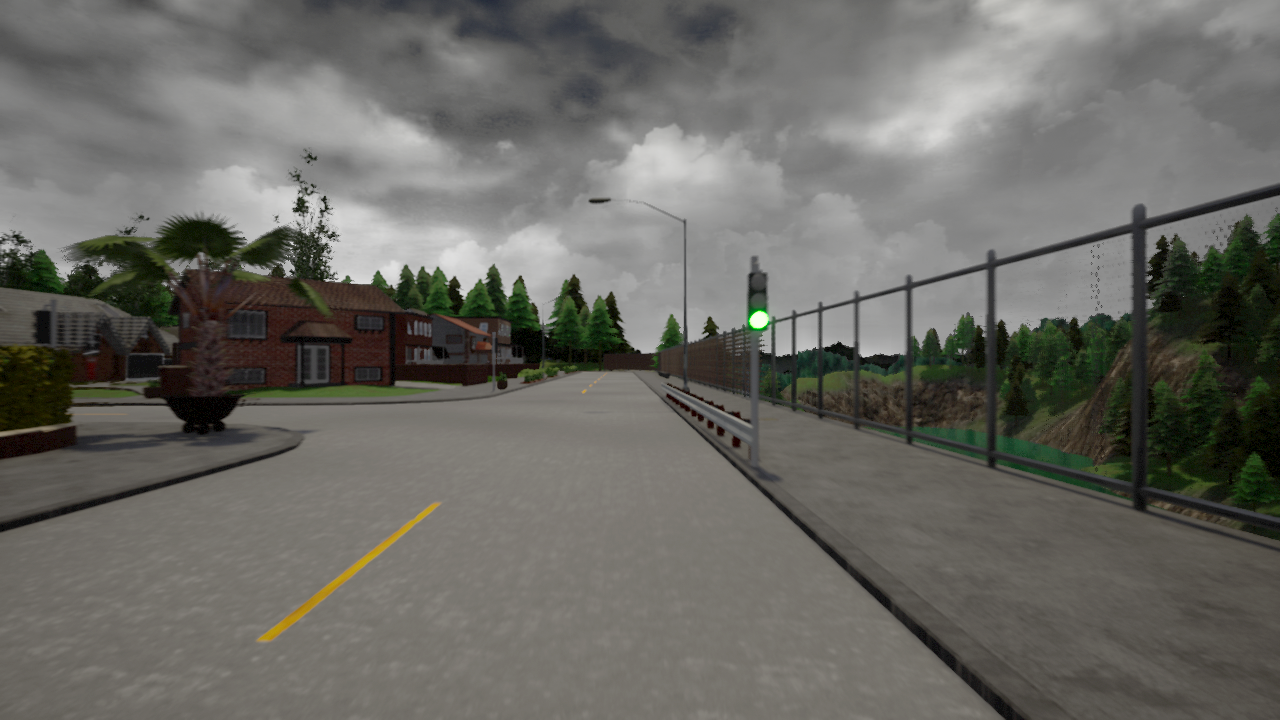green: (744, 271, 770, 331)
